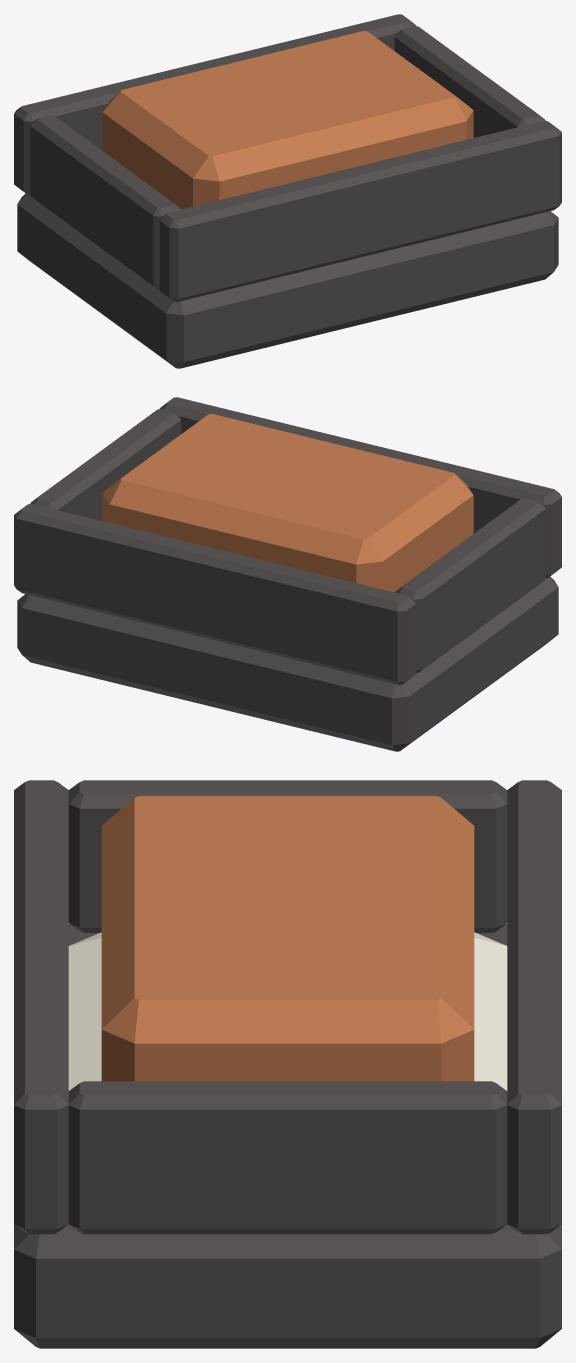
Rendered from orchestra-and-band-instruments-rosin-block-c9c33eb6__39315.glb.
3 views of the same model, one above another, from view 1: azimuth 30°, elevation 25°; view 2: azimuth 150°, elevation 25°; view 3: azimuth 270°, elevation 25° (orthographic). The views are drawn at different scales.
Parts seen in each view (by area): view 1: rosin-block; view 2: rosin-block; view 3: rosin-block.
Part boxes in pixels (x1,y1,x2,y2): rosin-block: (14, 14, 561, 368); rosin-block: (14, 397, 561, 751); rosin-block: (14, 780, 561, 1348).
Bounding box in the file's own units: 0.07 × 0.03 × 0.05.
